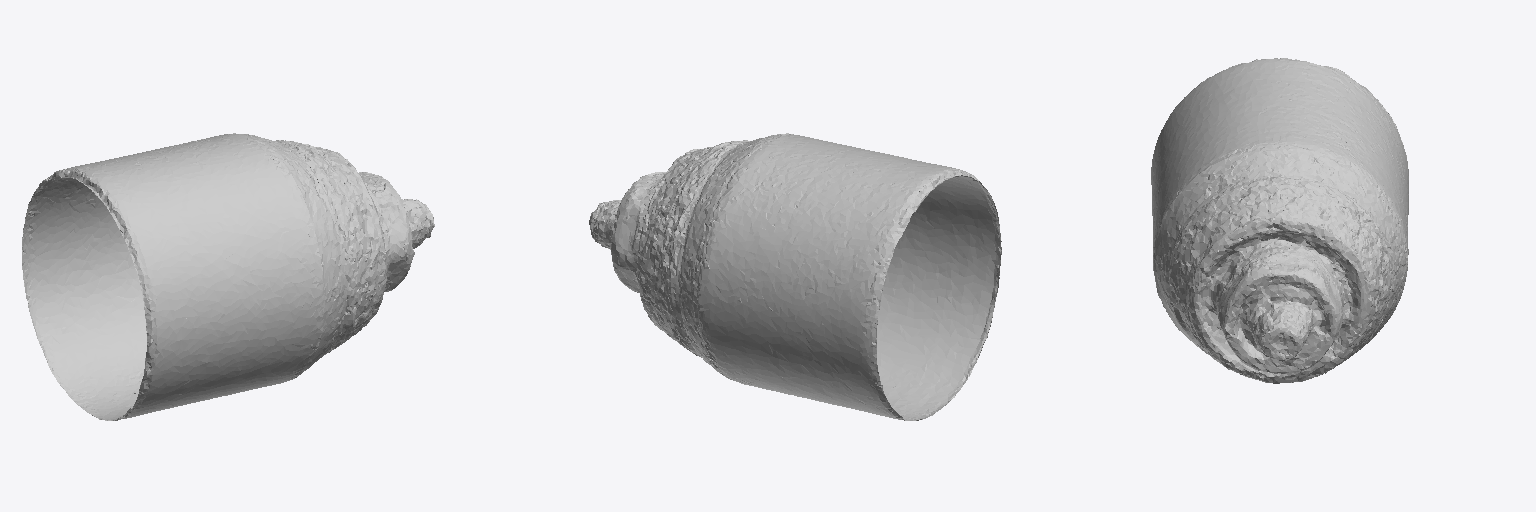
The model's file is chuck.obj.
3 renders of one model, left to right at view 1: azimuth 30°, elevation 25°; view 2: azimuth 150°, elevation 25°; view 3: azimuth 270°, elevation 25°, orthographic.
Visible parts, largest first — view 1: model.001_model.005; view 2: model.001_model.005; view 3: model.001_model.005.
Part boxes in pixels (x1,y1,x2,y2): model.001_model.005: (22,133,434,420); model.001_model.005: (589,133,1001,420); model.001_model.005: (1151,58,1408,383).
Bounding box in the file's own units: 0.0668 × 0.0439 × 0.0436.